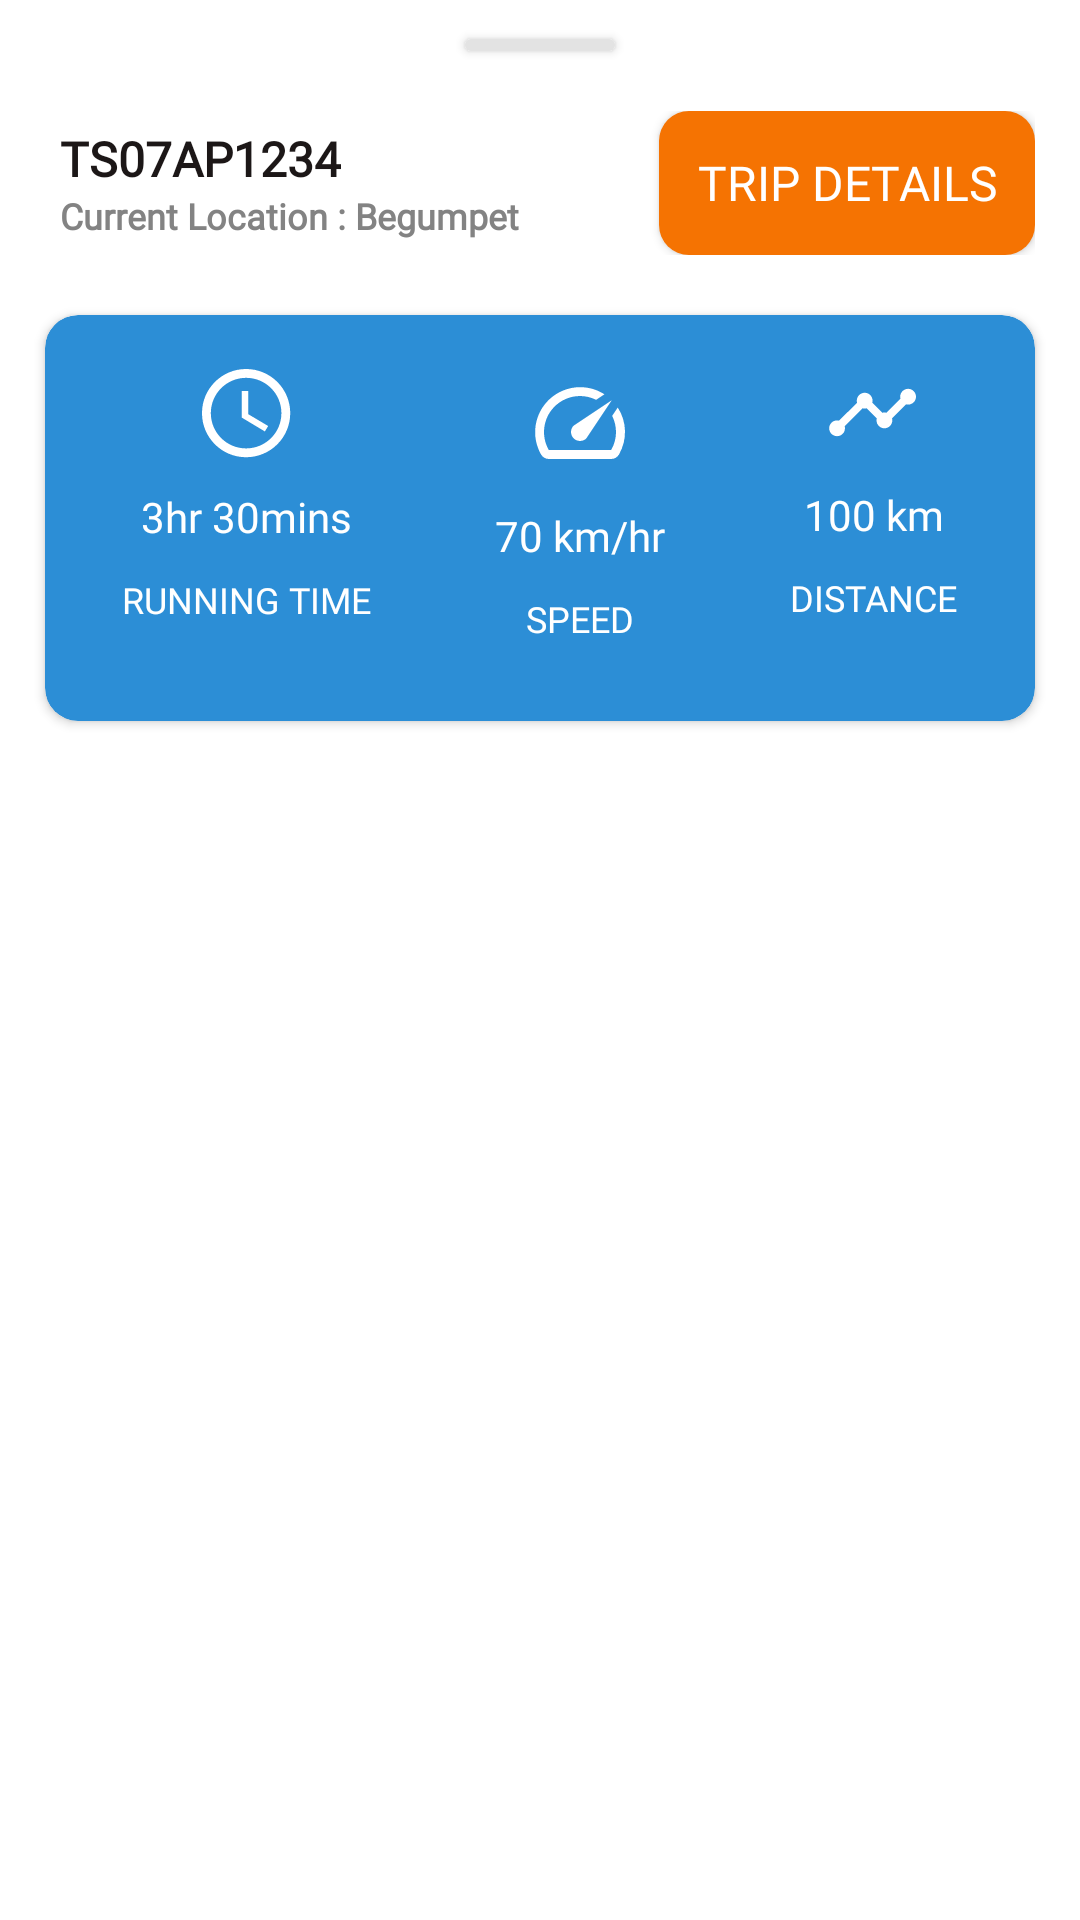

Where to tap for icons on this 1080x1920 app screen, as (x=x, y=y):
timeline: (x=872, y=412)
timer: (x=246, y=413)
